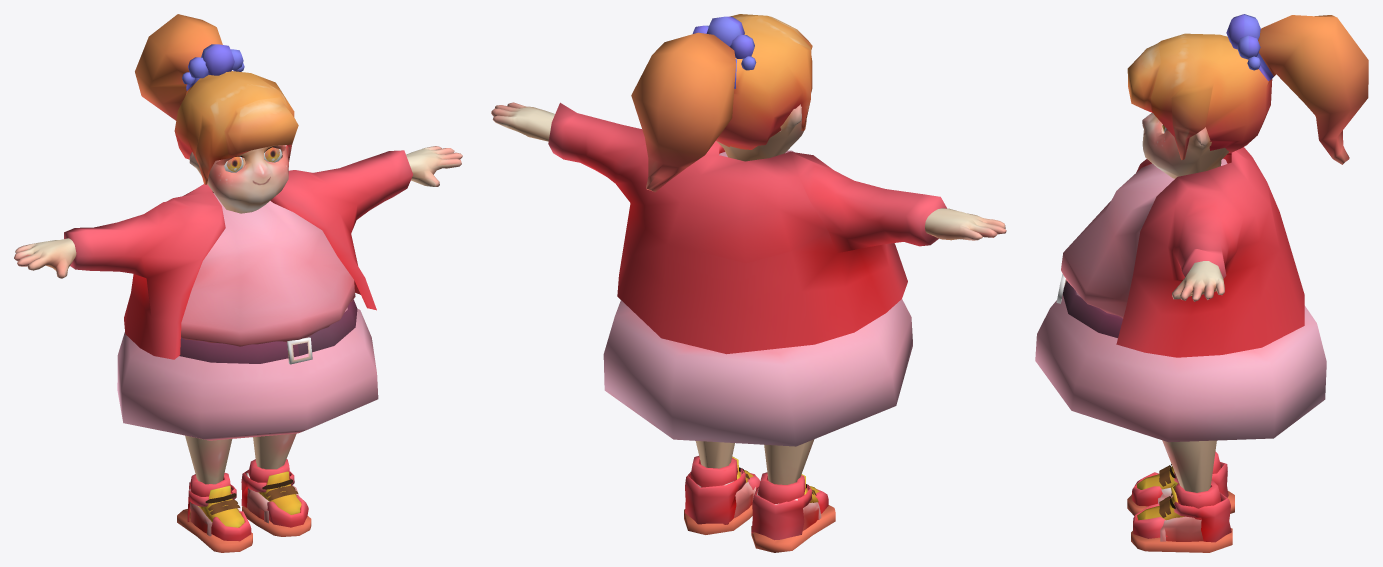
File: prof1_cha.fbx
3 renders of one model, left to right at view 1: azimuth 30°, elevation 25°; view 2: azimuth 150°, elevation 25°; view 3: azimuth 270°, elevation 25°, orthographic. The views are drawn at different scales.
Visible parts, largest first — view 1: prof1_low.001; view 2: prof1_low.001; view 3: prof1_low.001.
Part boxes in pixels (box(x1,y1,x2,y2)): prof1_low.001: box(14, 14, 462, 552); prof1_low.001: box(491, 14, 1006, 552); prof1_low.001: box(1035, 14, 1368, 552).
Bounding box in the file's own units: 299 × 297 × 176.
